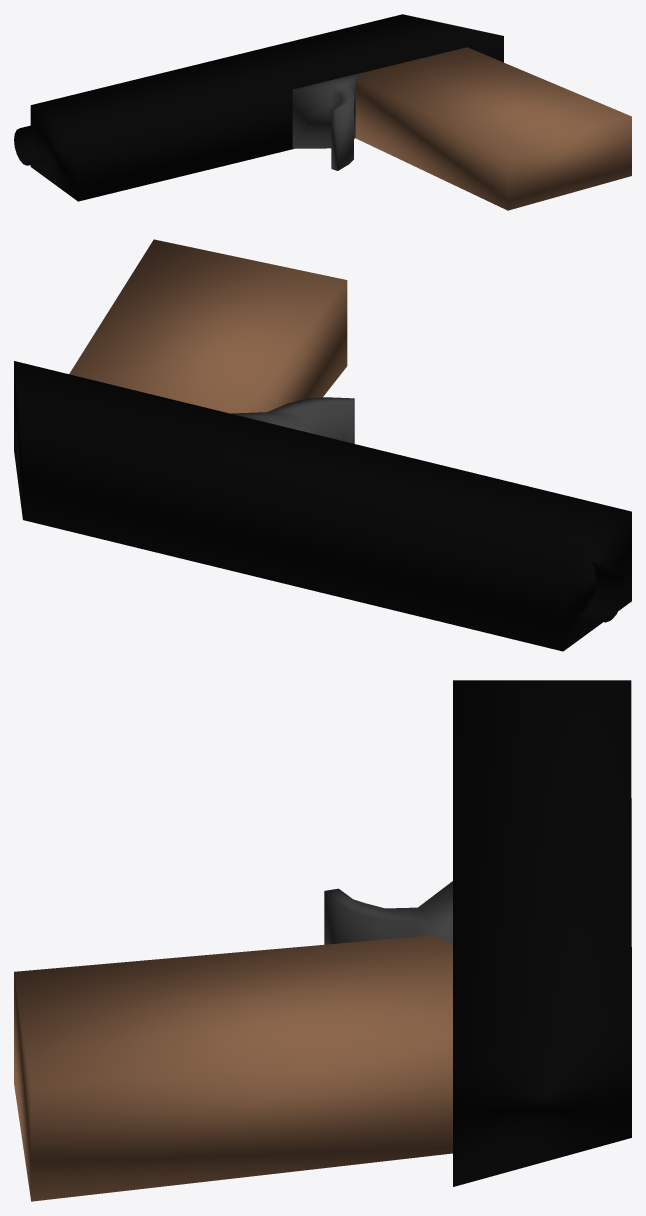
File: pistol2.fbx
The picture shows the model from 3 angles, top to bottom: view 1: azimuth 30°, elevation 25°; view 2: azimuth 150°, elevation 25°; view 3: azimuth 270°, elevation 25°; orthographic projection. The views are drawn at different scales.
Visible parts, largest first — view 1: TOpGun, Handle, Trigger, Barrel; view 2: TOpGun, Handle, Trigger, Barrel; view 3: Handle, TOpGun, Trigger.
Part boxes in pixels (<box>): TOpGun: <box>30,14,503,201</box>; Handle: <box>355,47,631,210</box>; Trigger: <box>292,72,361,170</box>; Barrel: <box>14,123,46,165</box>; TOpGun: <box>14,361,631,651</box>; Handle: <box>69,239,347,413</box>; Trigger: <box>231,397,354,443</box>; Barrel: <box>577,561,624,622</box>; Handle: <box>14,935,452,1201</box>; TOpGun: <box>453,680,631,1186</box>; Trigger: <box>324,881,452,944</box>.
Size of the model in its own units: 499 by 63.79 by 308.
